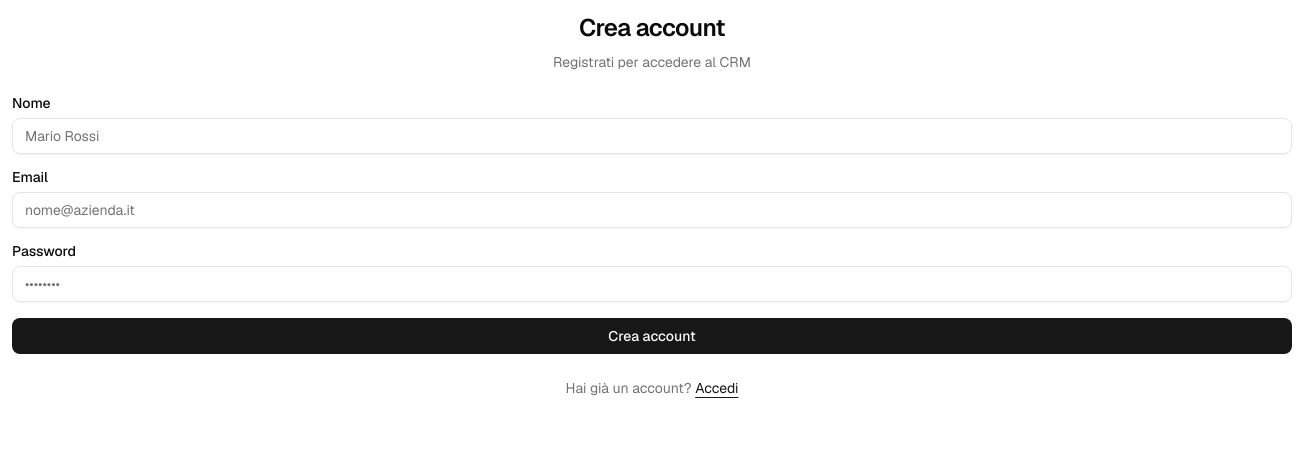
Test case: SignUpForm › shows inline error when email is already registered
Type "Test User" into the field labelled "Nome" at [652, 136], box [12, 118, 1292, 154]
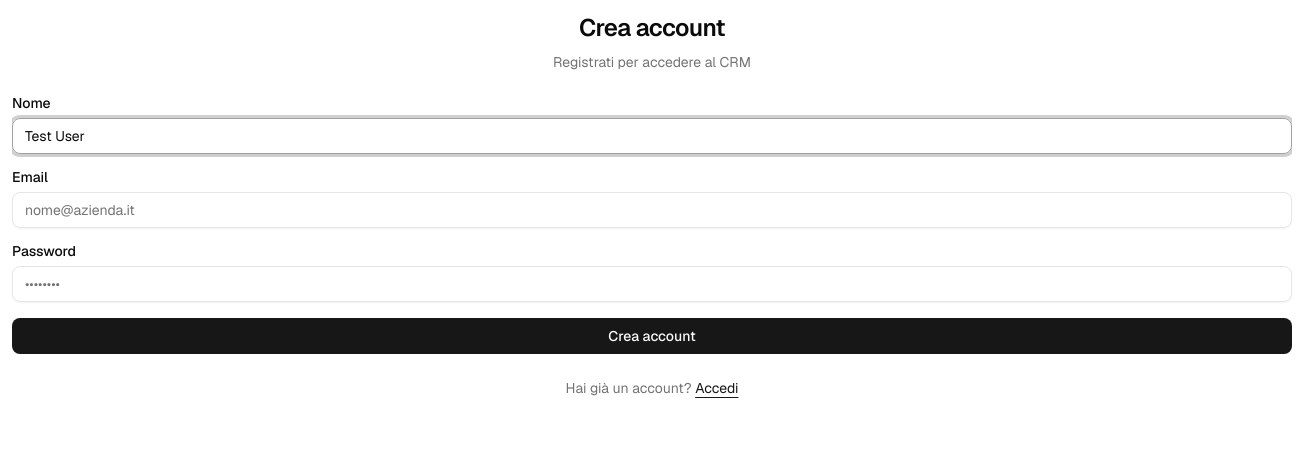
Type "existing@example.com" into the field labelled "Email" at [652, 210], box [12, 192, 1292, 228]
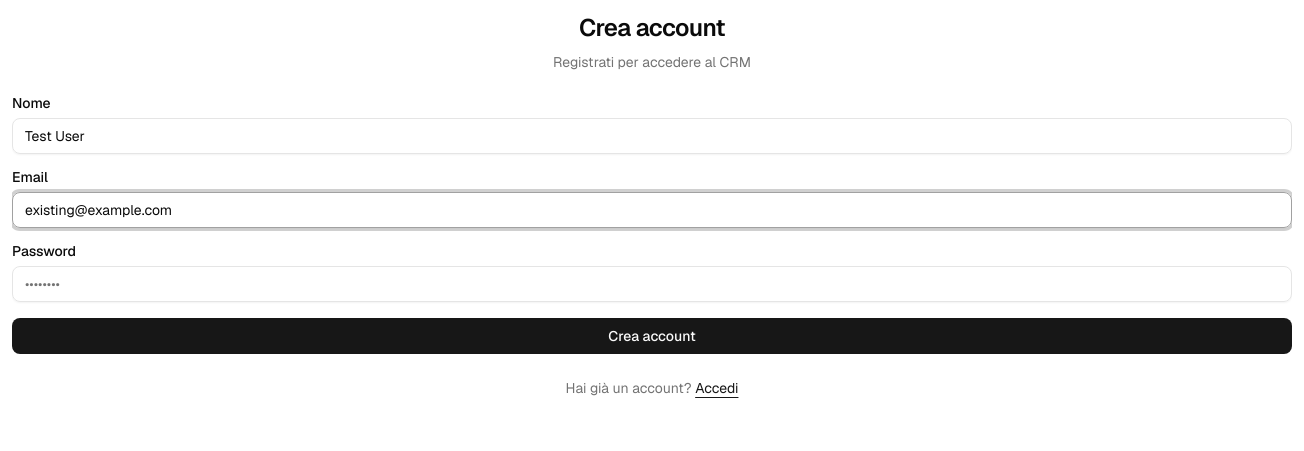
Type "password123" into the password field labelled "Password" at [652, 284], box [12, 266, 1292, 302]
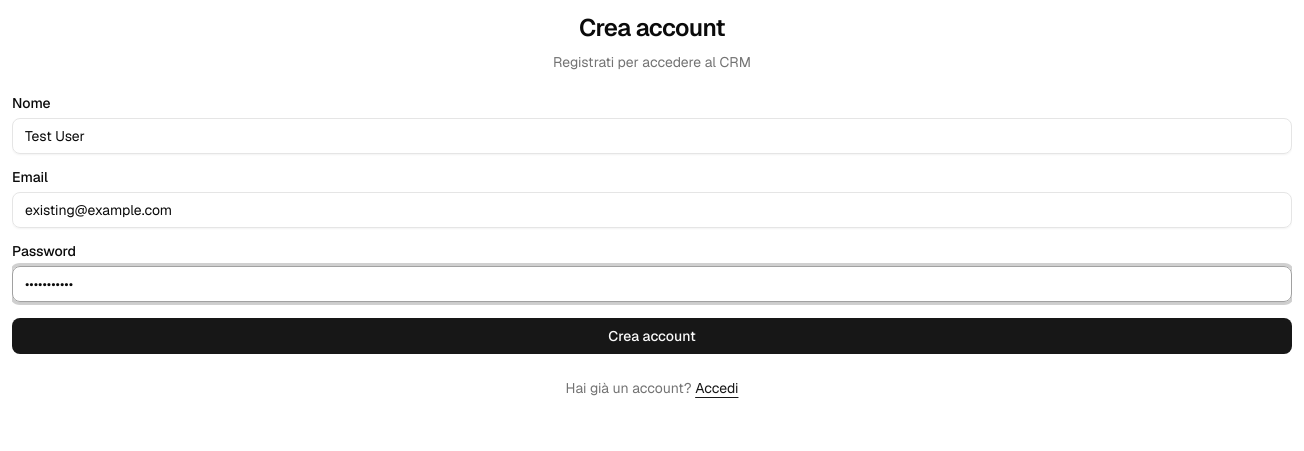
Click the button "Crea account" at [652, 336], box [12, 318, 1292, 354]
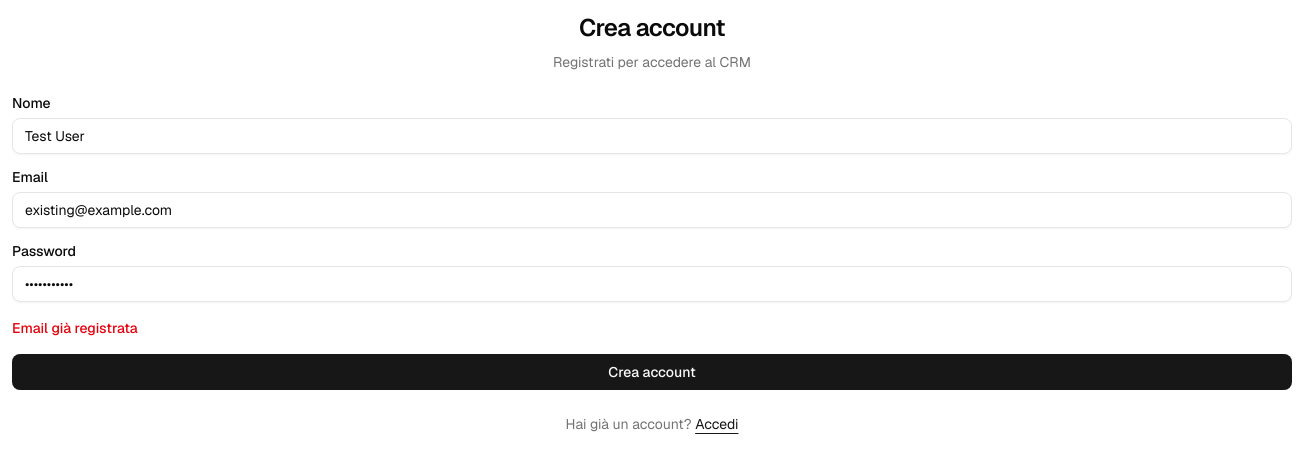
Expected: the text "Email già registrata" is shown, [12, 319, 138, 337]
